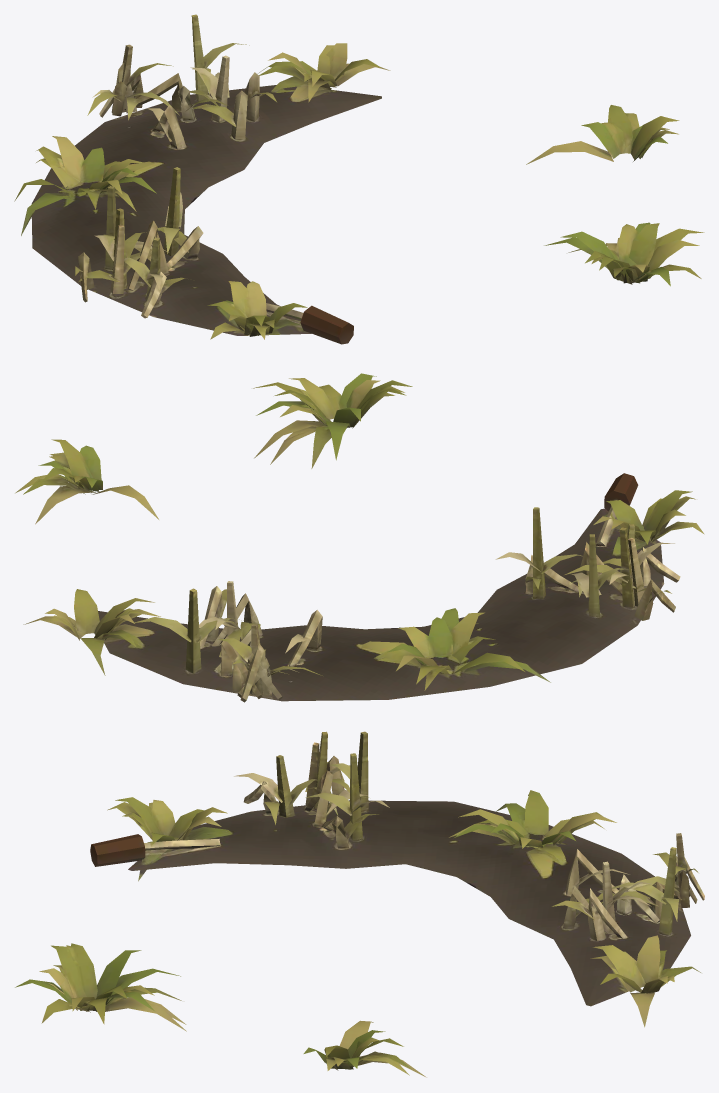
File: rough-marsh-3.glb
3 views of the same model, one above another, from view 1: azimuth 30°, elevation 25°; view 2: azimuth 150°, elevation 25°; view 3: azimuth 270°, elevation 25° (orthographic).
Parts seen in each view (by area): view 1: rough-marsh-3; view 2: rough-marsh-3; view 3: rough-marsh-3.
Boxes of the visible parts, x1=… form: rough-marsh-3: x1=14, y1=14, x2=704, y2=344; rough-marsh-3: x1=15, y1=373, x2=704, y2=702; rough-marsh-3: x1=15, y1=731, x2=704, y2=1077.
Bounding box in the file's own units: 1.55 × 0.2486 × 1.52.
Materials: 1 (1 with a texture image).
